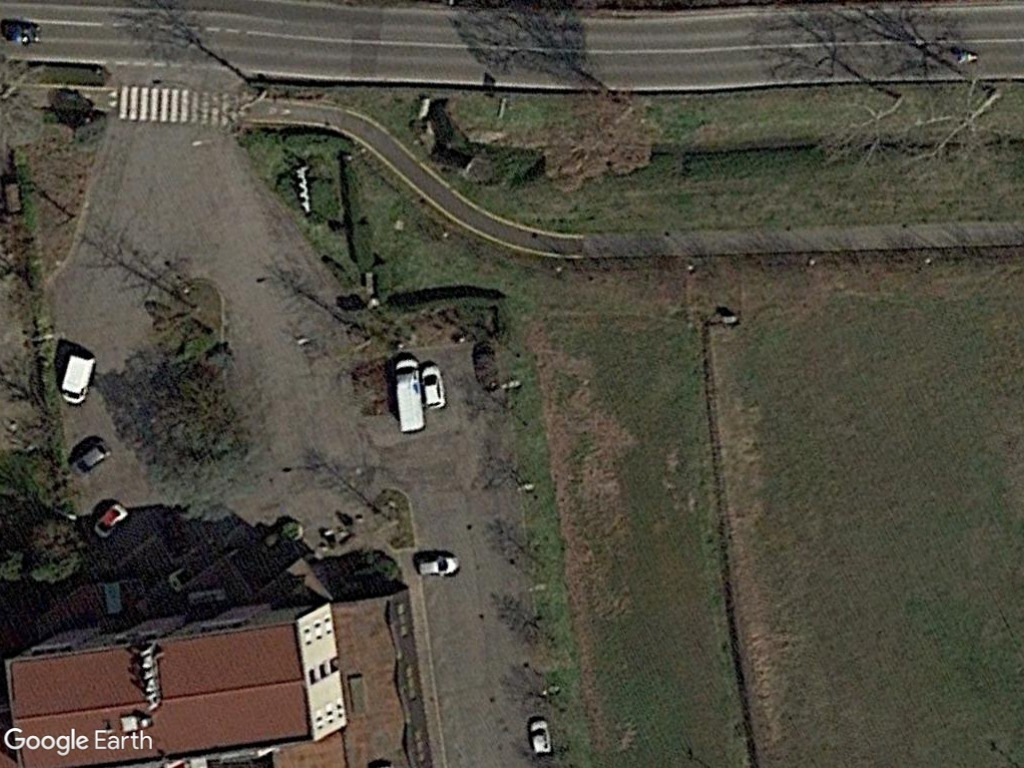car: (68, 436, 116, 481), (411, 547, 464, 583), (417, 358, 448, 417), (522, 712, 559, 760)
truck: (57, 347, 101, 408)
van: (391, 356, 428, 434)
